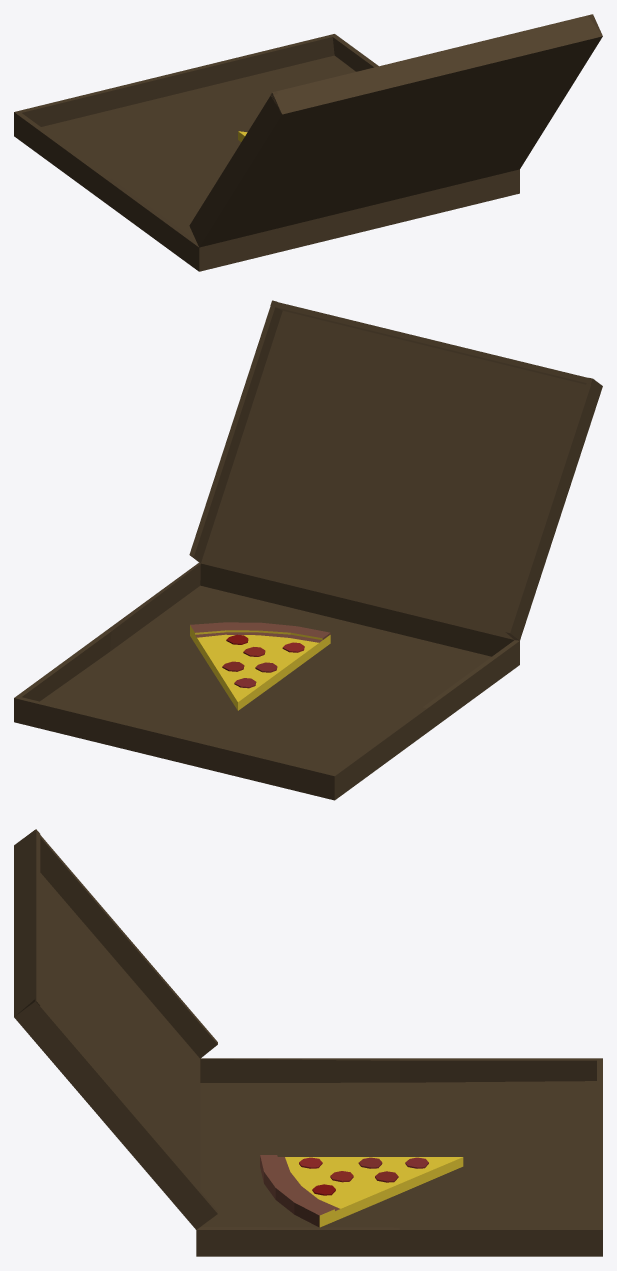
The model's file is pizza box.fbx.
3 views of the same model, one above another, from view 1: azimuth 30°, elevation 25°; view 2: azimuth 150°, elevation 25°; view 3: azimuth 270°, elevation 25° (orthographic). The views are drawn at different scales.
Parts seen in each view (by area): view 1: Plane; view 2: Plane, Cylinder; view 3: Plane, Cylinder.
Part boxes in pixels (x1,y1,x2,y2): Plane: [14, 14, 602, 271]; Plane: [14, 300, 602, 800]; Cylinder: [190, 622, 330, 710]; Plane: [14, 829, 602, 1256]; Cylinder: [260, 1155, 463, 1227].
Size of the model in its own units: 200 by 139 by 290.
